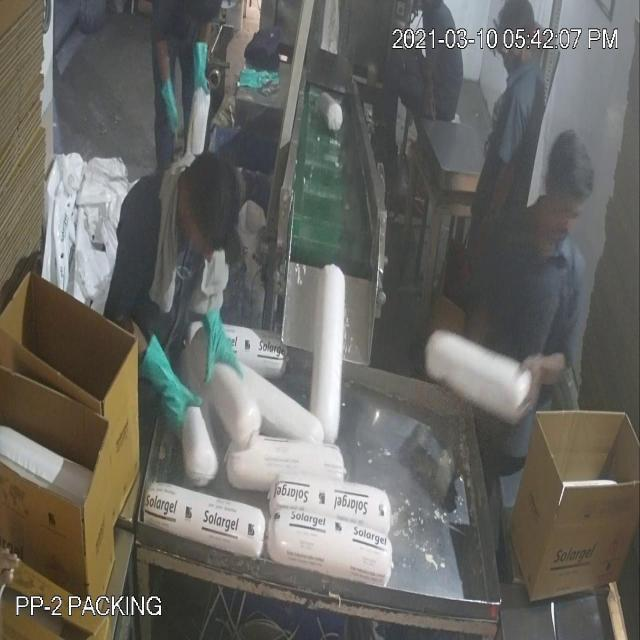No_Gloves: (22, 66, 544, 388)
